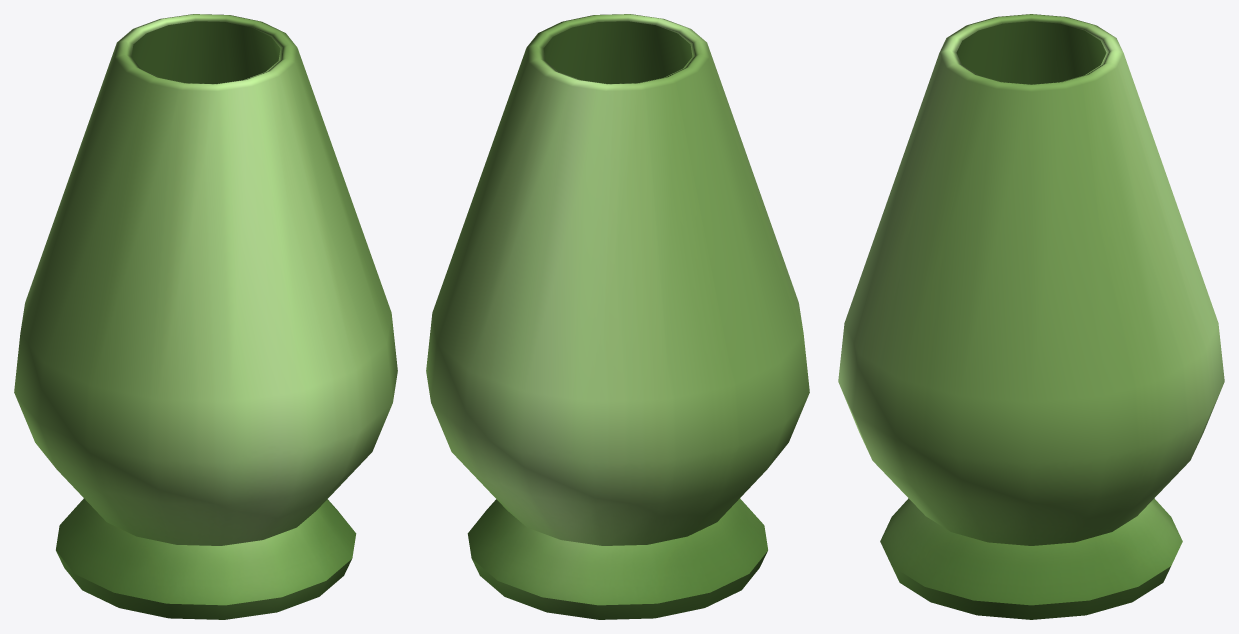
Rendered from Matcha_Whisk_Holder.fbx.
The picture shows the model from 3 angles, left to right: view 1: azimuth 30°, elevation 25°; view 2: azimuth 150°, elevation 25°; view 3: azimuth 270°, elevation 25°; orthographic projection.
Parts seen in each view (by area): view 1: Matcha_Whisk_Holder; view 2: Matcha_Whisk_Holder; view 3: Matcha_Whisk_Holder.
Part boxes in pixels (x1,y1,x2,y2): Matcha_Whisk_Holder: (14, 14, 397, 619); Matcha_Whisk_Holder: (426, 14, 809, 619); Matcha_Whisk_Holder: (838, 14, 1224, 619).
Size of the model in its own units: 21.08 by 30.69 by 21.08.
